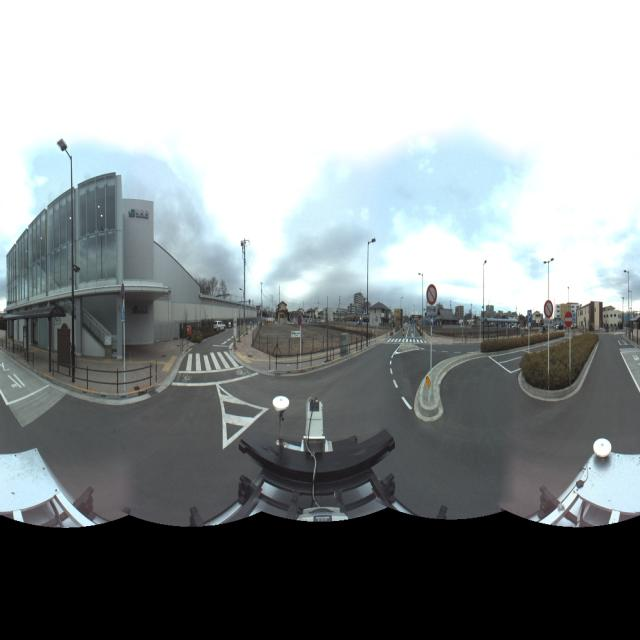b_1: (6, 169, 160, 368), (552, 296, 580, 335), (576, 296, 603, 334), (346, 284, 370, 325), (602, 303, 623, 338), (375, 299, 391, 333)
